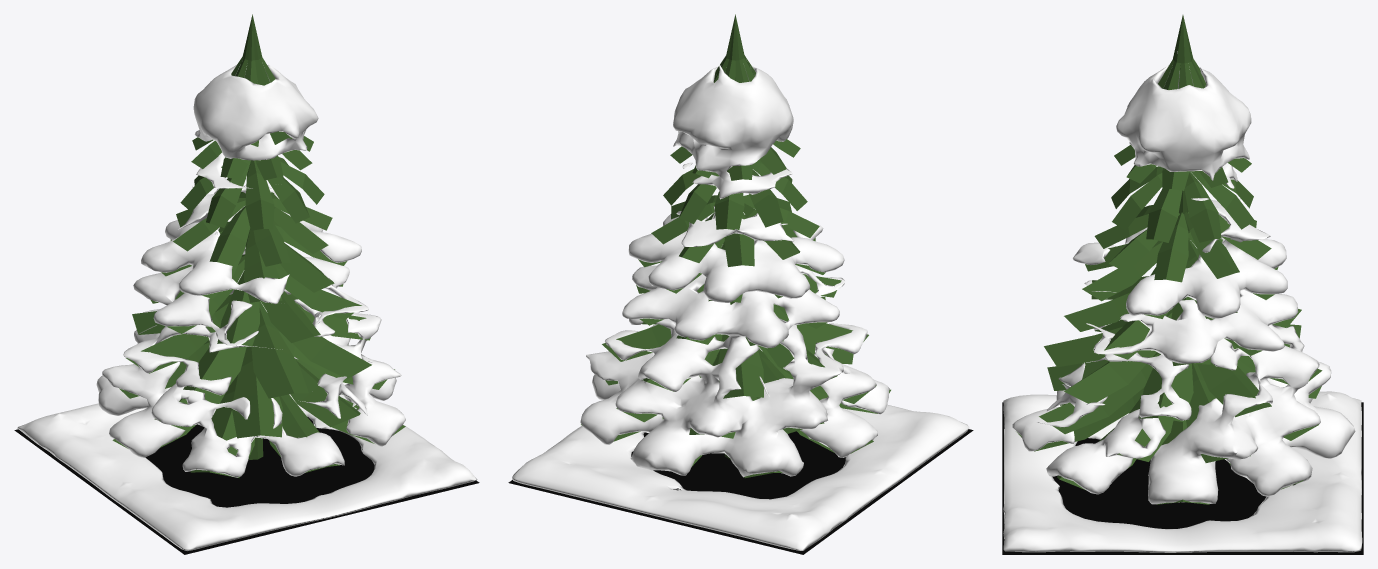
File: Tree_S10P2.glb
3 views of the same model, side by side, from view 1: azimuth 30°, elevation 25°; view 2: azimuth 150°, elevation 25°; view 3: azimuth 270°, elevation 25° (orthographic). The views are drawn at different scales.
Parts seen in each view (by area): view 1: SnowMesh, Fir_Tree, Plane; view 2: SnowMesh, Fir_Tree, Plane; view 3: SnowMesh, Fir_Tree, Plane.
Part boxes in pixels (left/top/right/bottom): SnowMesh: left=17, top=64, right=477, bottom=550; Fir_Tree: left=112, top=14, right=405, bottom=477; Plane: left=14, top=417, right=479, bottom=554; SnowMesh: left=512, top=64, right=969, bottom=550; Fir_Tree: left=581, top=14, right=890, bottom=478; Plane: left=508, top=429, right=973, bottom=554; SnowMesh: left=1003, top=51, right=1362, bottom=552; Fir_Tree: left=1016, top=15, right=1322, bottom=504; Plane: left=1002, top=402, right=1363, bottom=554.
Bounding box in the file's own units: 4 × 5.73 × 4.
